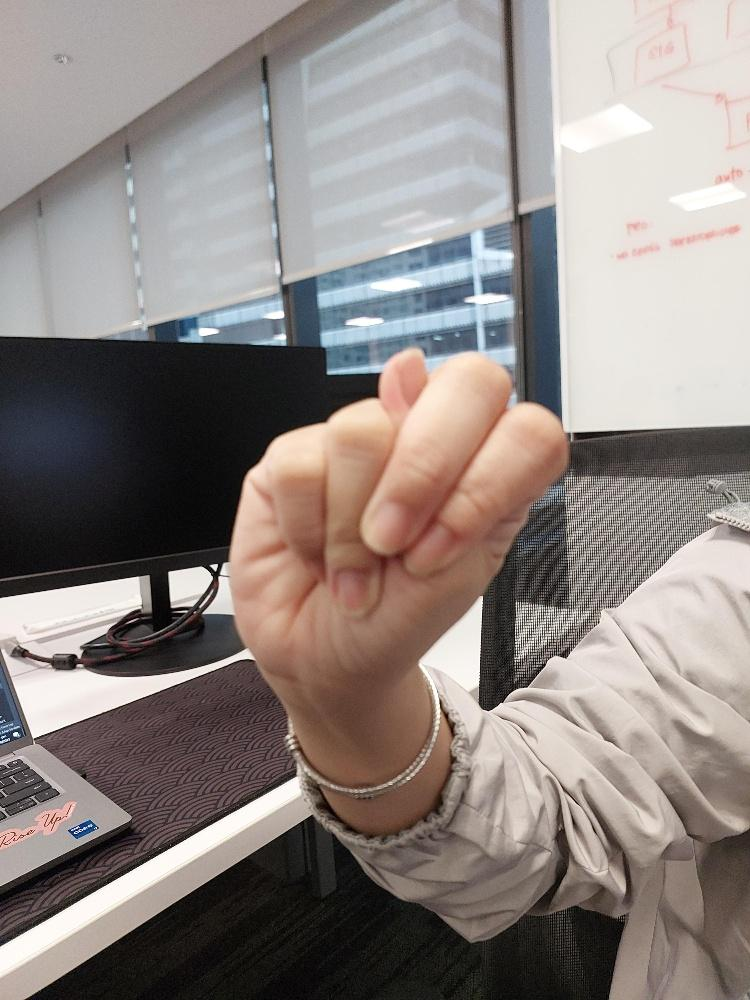n: (225, 346, 568, 694)
